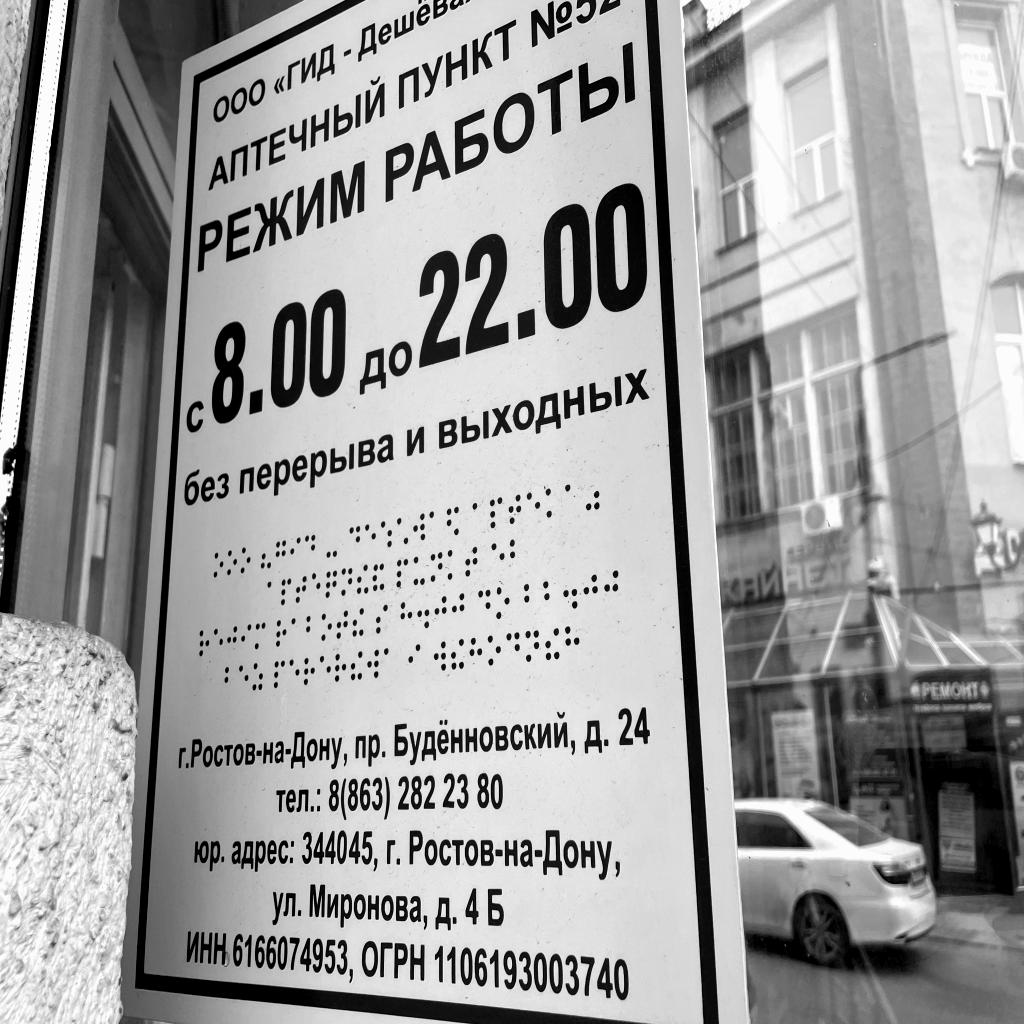_n: (525, 629, 540, 663), (430, 551, 443, 583), (341, 566, 353, 597)
_y: (413, 556, 425, 586)
a: (564, 483, 579, 515), (472, 502, 485, 530), (383, 647, 396, 674), (429, 511, 441, 539), (291, 617, 302, 643), (267, 581, 277, 606)
b: (306, 615, 318, 642), (224, 666, 235, 692)
ch: (325, 570, 337, 599)
d: (506, 631, 521, 665), (478, 589, 491, 621), (304, 533, 316, 561), (349, 525, 361, 553)
defis: (326, 530, 338, 558)
e: (526, 492, 541, 523), (320, 655, 332, 684), (365, 523, 377, 550), (289, 658, 300, 687), (213, 628, 224, 656), (312, 572, 322, 601), (239, 665, 249, 692)
g: (275, 540, 287, 569)
gh: (227, 625, 238, 653)
i: (408, 643, 421, 673), (241, 623, 252, 652), (290, 537, 301, 565)
iKratkoe: (372, 562, 385, 592)
ii: (545, 627, 560, 662), (451, 639, 465, 670), (356, 564, 369, 596), (351, 650, 364, 681), (352, 607, 365, 637)
k: (545, 488, 560, 519), (447, 549, 461, 580)
kavichki1: (261, 543, 272, 570)
kavichki2: (585, 479, 600, 511)
m: (255, 621, 267, 650)
o: (496, 586, 510, 620), (488, 634, 502, 667), (321, 613, 332, 642), (240, 547, 251, 575), (213, 552, 224, 578), (227, 550, 238, 576)
p: (489, 496, 503, 529), (396, 558, 409, 588), (273, 660, 286, 690), (281, 578, 293, 606)
r: (334, 653, 347, 683), (275, 619, 287, 647), (199, 630, 210, 658), (304, 657, 315, 685)
s: (376, 603, 389, 634)
sh: (381, 520, 393, 548)
t: (508, 494, 522, 525), (465, 546, 478, 578), (336, 610, 349, 640), (295, 575, 307, 604)
tochka: (563, 573, 578, 610), (417, 596, 430, 629)
v: (433, 640, 447, 671), (413, 512, 426, 541), (367, 648, 379, 679)
x: (565, 625, 581, 659), (469, 637, 483, 669)
ya: (446, 506, 459, 536)
yo: (397, 517, 409, 545)
z: (252, 662, 263, 691)
